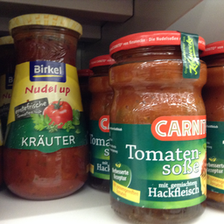tomato_sauce: (106, 30, 209, 224), (3, 14, 89, 200)
